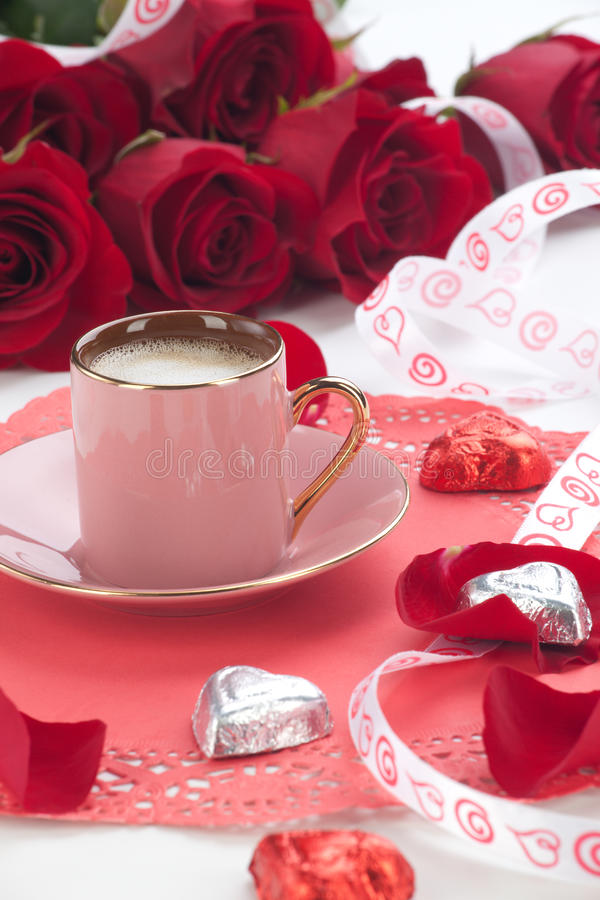RedRose: (270, 51, 491, 304), (97, 137, 315, 310), (107, 0, 371, 140), (0, 132, 115, 364), (452, 27, 600, 178), (0, 15, 131, 161)
